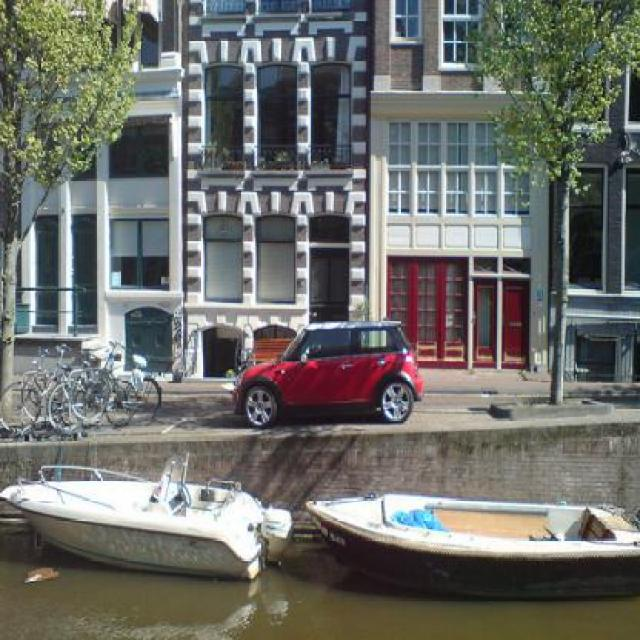ship: (0, 455, 295, 582), (307, 484, 638, 588)
